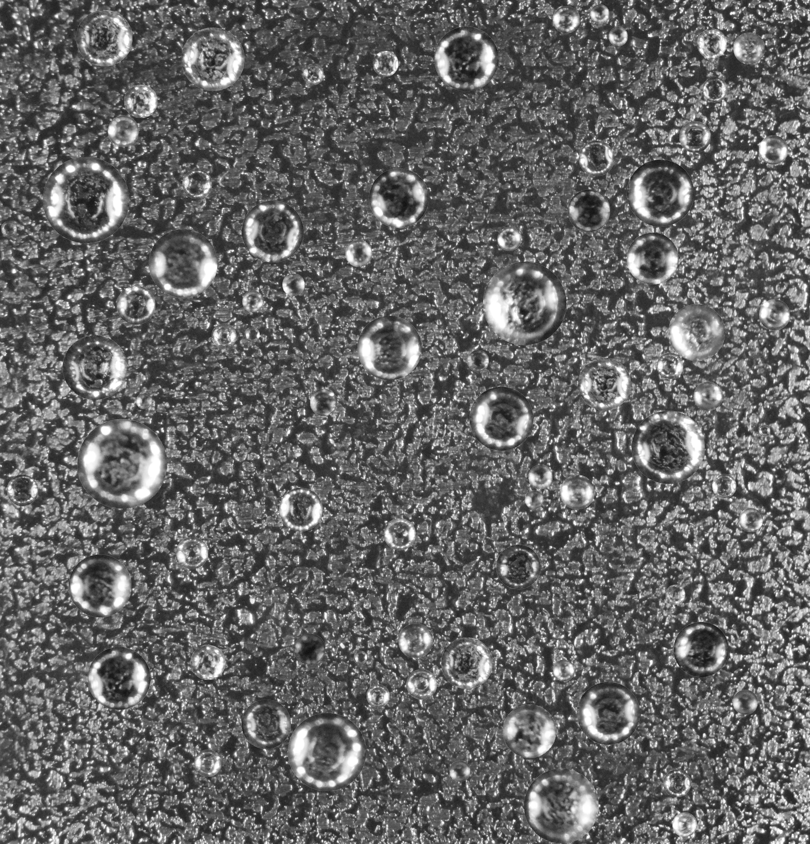Bubble: (77, 419, 166, 508), (42, 156, 129, 243), (483, 261, 566, 345), (288, 713, 366, 791), (524, 768, 598, 843), (631, 410, 704, 483), (148, 229, 217, 297), (627, 159, 694, 226), (357, 315, 421, 380), (62, 335, 127, 399), (469, 386, 533, 450), (434, 26, 498, 90), (181, 27, 244, 90), (68, 554, 131, 617), (87, 647, 150, 709), (241, 200, 303, 262), (577, 682, 639, 744), (369, 168, 428, 227), (668, 304, 725, 360), (76, 9, 132, 66), (673, 622, 728, 677), (502, 704, 556, 757), (578, 357, 630, 410), (626, 232, 678, 284), (441, 637, 492, 688), (241, 699, 290, 748), (496, 544, 540, 589), (279, 487, 322, 531), (567, 189, 610, 231), (116, 285, 155, 324), (578, 140, 614, 176), (398, 623, 432, 658), (190, 645, 225, 679), (560, 475, 594, 509), (124, 84, 157, 117), (6, 474, 38, 506), (383, 518, 415, 550), (733, 32, 765, 64), (176, 537, 208, 569), (759, 299, 790, 330), (107, 115, 138, 146), (679, 121, 710, 152), (294, 633, 325, 664), (406, 669, 436, 699), (697, 28, 726, 58), (182, 169, 212, 198), (693, 381, 722, 410), (759, 135, 788, 164), (663, 769, 691, 797), (194, 749, 221, 776), (552, 6, 579, 33), (310, 388, 337, 415), (345, 240, 372, 266), (657, 352, 683, 379), (372, 50, 398, 76), (702, 77, 727, 102), (672, 812, 697, 837), (211, 323, 236, 348), (733, 689, 757, 714), (528, 464, 552, 489), (712, 474, 736, 498), (739, 508, 763, 532), (497, 227, 521, 250), (366, 684, 389, 707), (282, 273, 304, 295), (242, 290, 263, 312), (553, 659, 574, 681), (467, 350, 488, 371), (302, 63, 323, 84), (449, 760, 470, 781), (665, 584, 685, 604), (608, 26, 627, 45), (590, 4, 609, 23), (524, 490, 543, 508), (136, 393, 152, 409), (244, 327, 259, 342), (1, 221, 16, 236), (353, 651, 367, 664), (758, 425, 770, 436), (40, 36, 51, 47)
